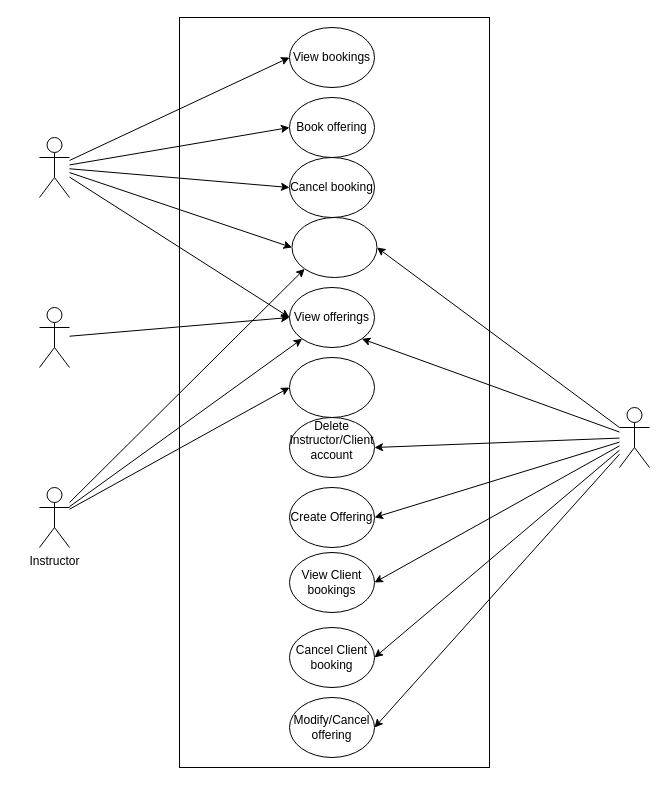
The diagram is 669 pixels wide and 785 high, and some of its shapes have lost their labels. Each missing label, with the centre of its shape:
Admin: point (634, 437)
Client: point (54, 167)
Login/Register /Logout: point (334, 247)
Public/Visitors: point (54, 337)
Teach Offering: point (331, 387)
